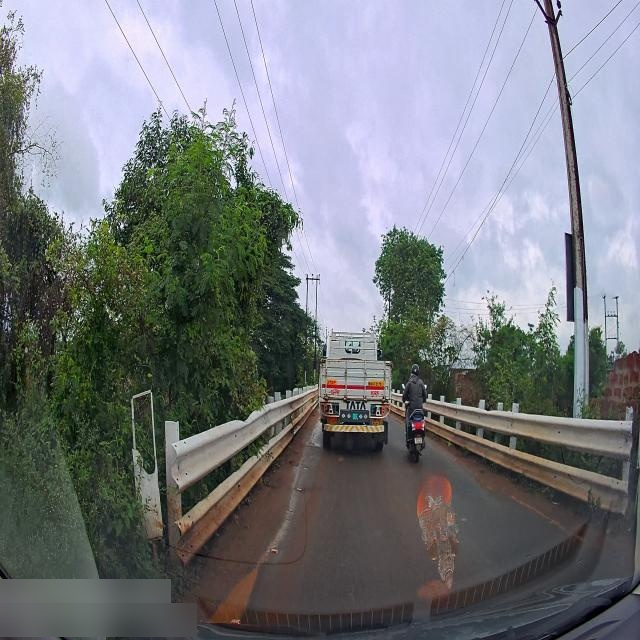pothole: (208, 574, 266, 601)
